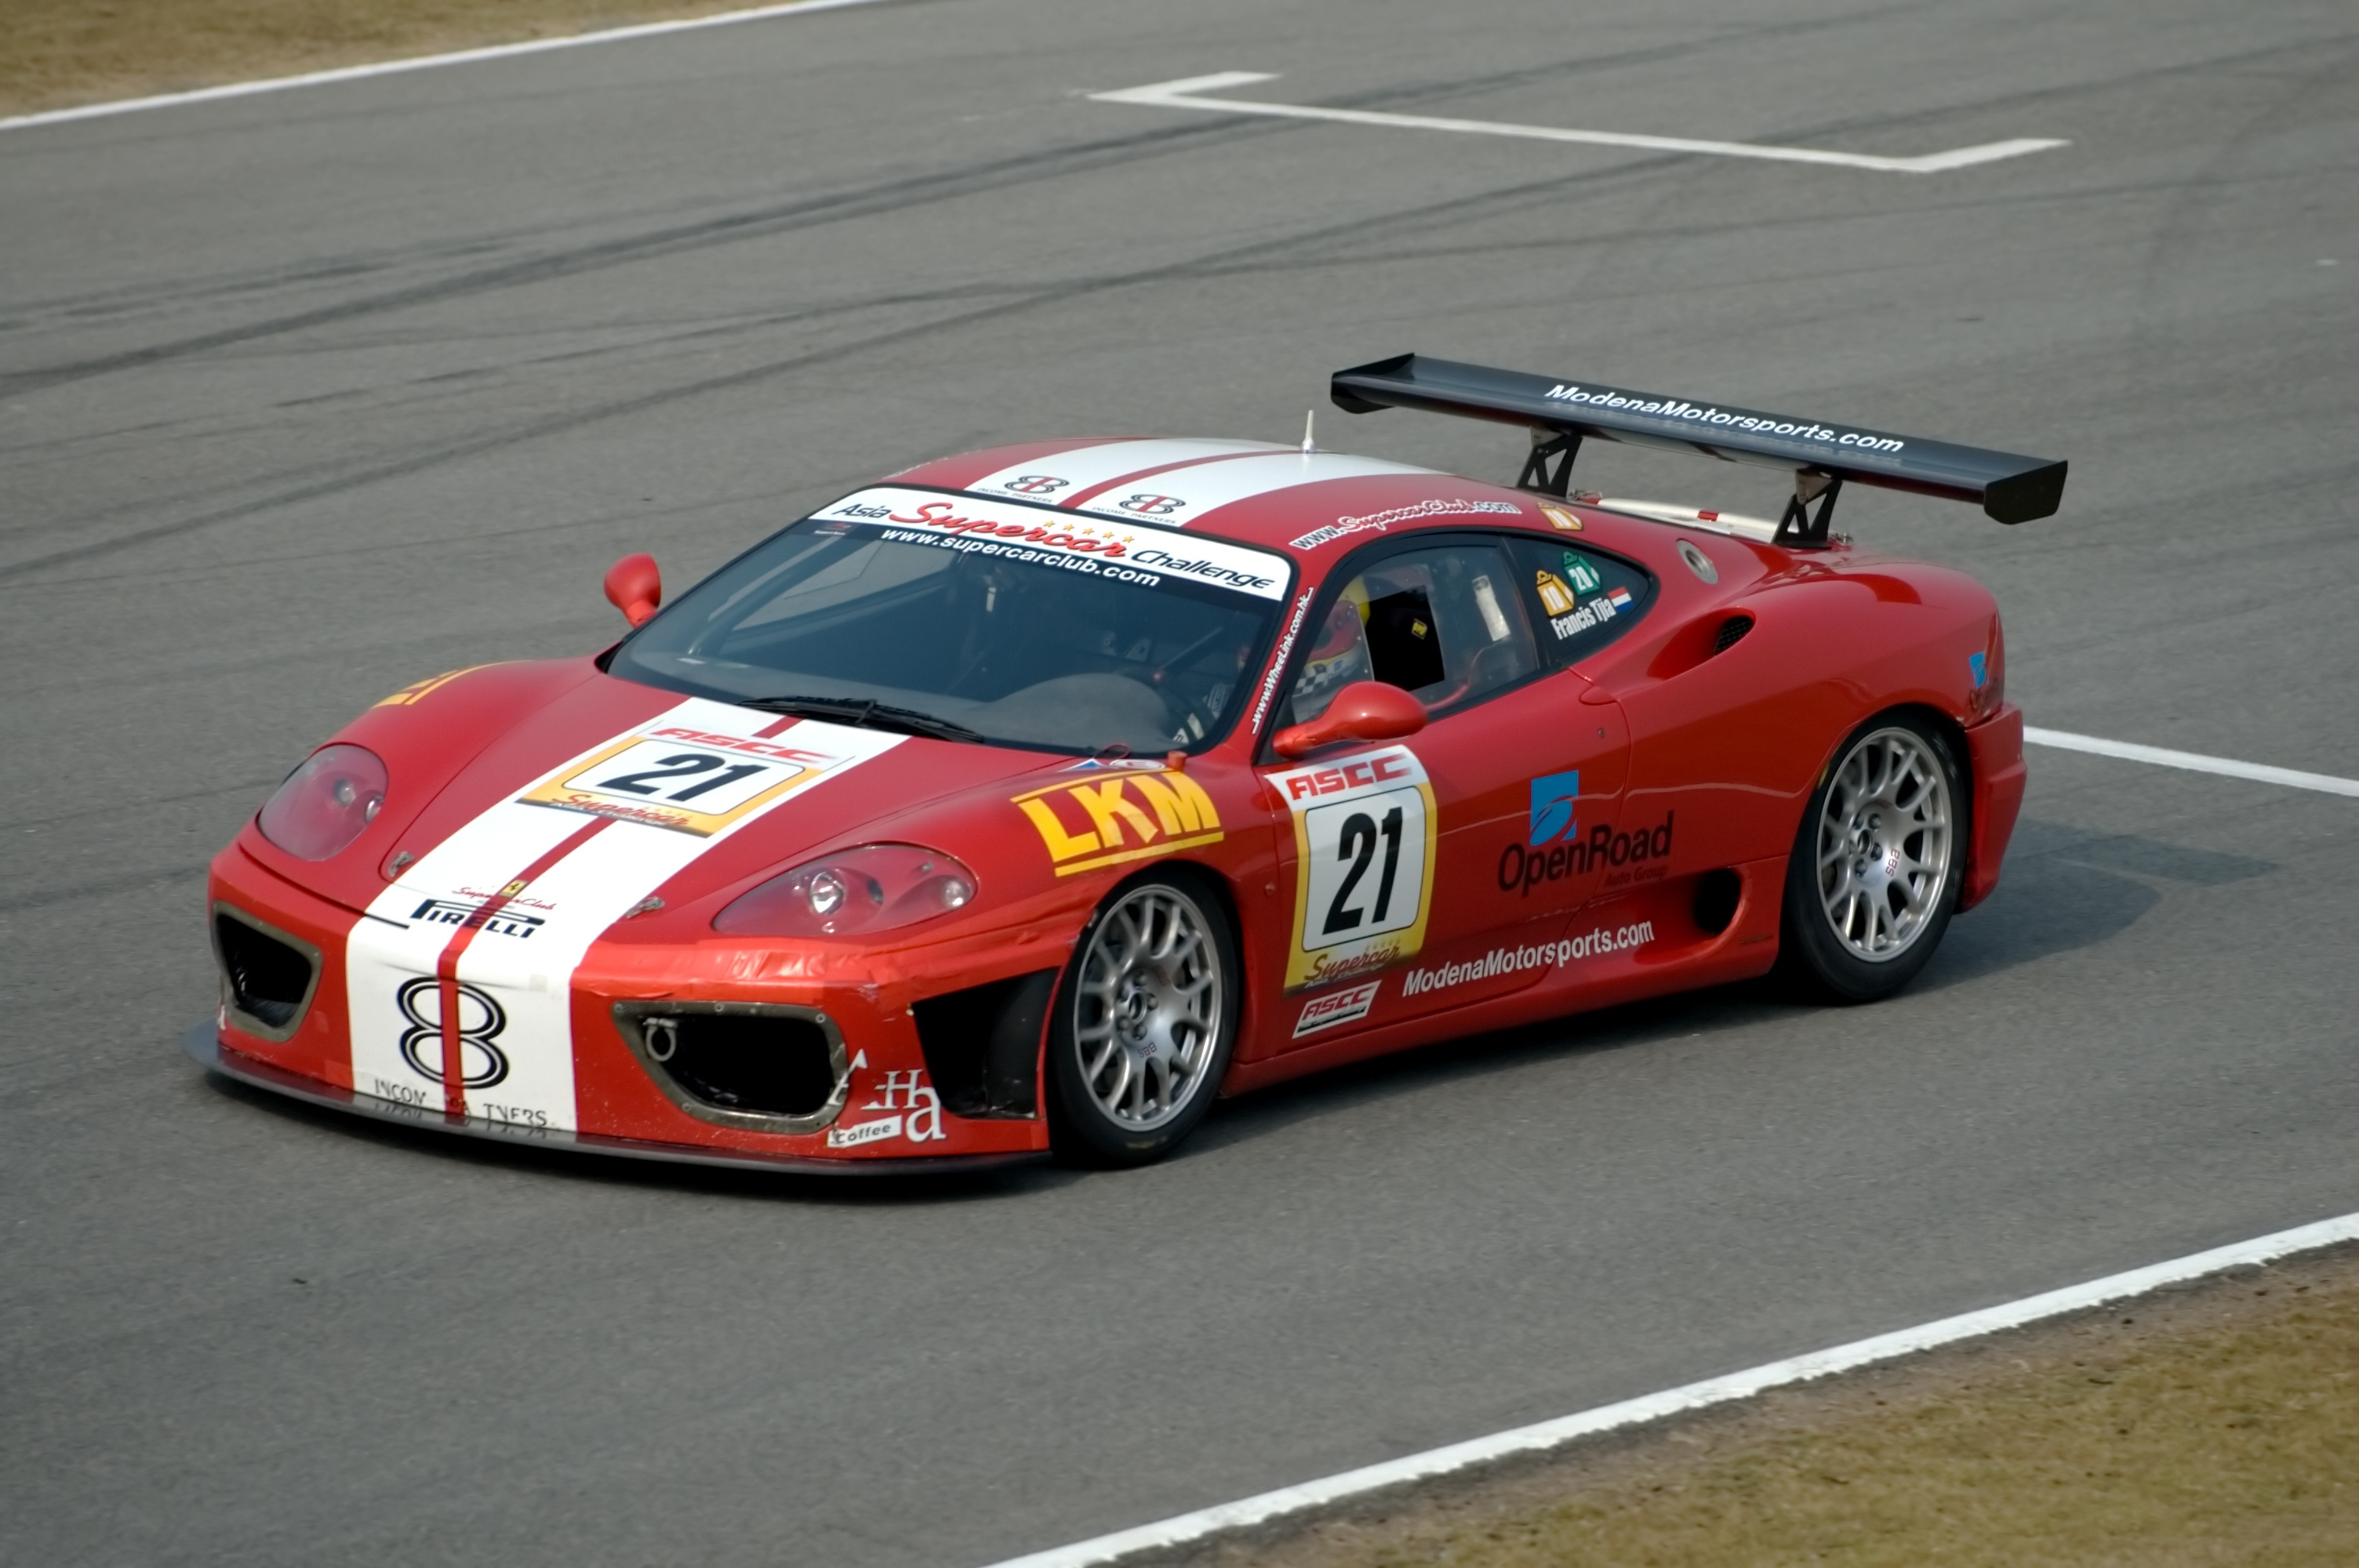racing car: (199, 352, 2077, 1194)
